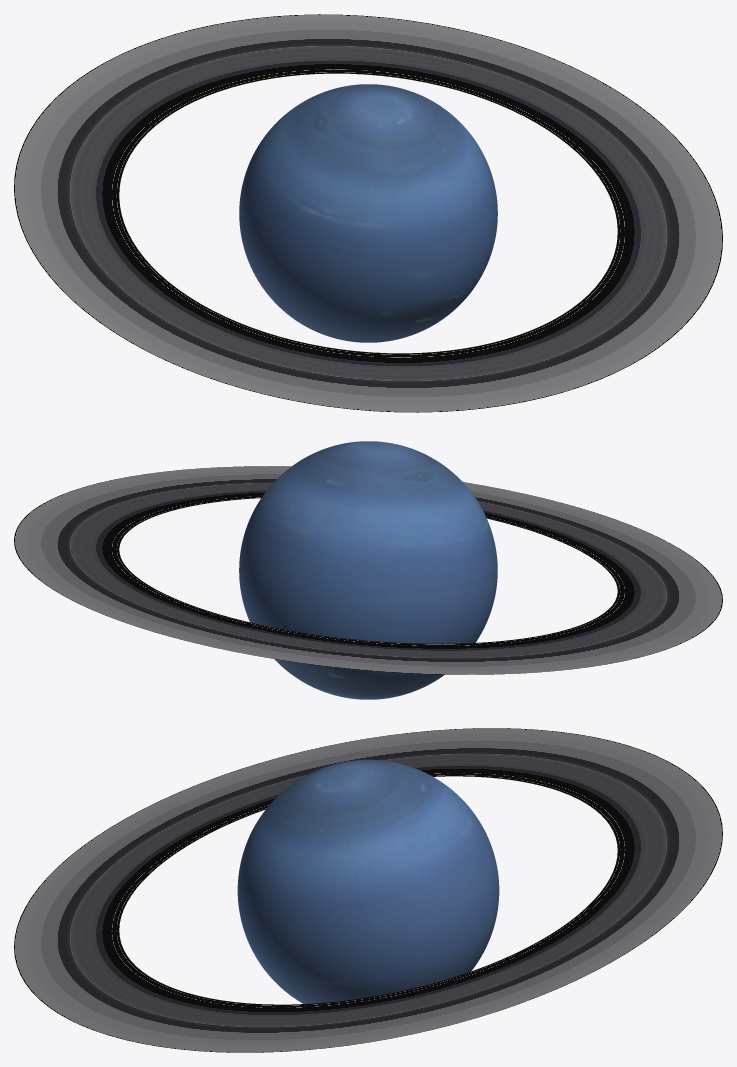
The model's file is neptuno_final.glb.
The picture shows the model from 3 angles, top to bottom: view 1: azimuth 30°, elevation 25°; view 2: azimuth 150°, elevation 25°; view 3: azimuth 270°, elevation 25°; orthographic projection.
Parts seen in each view (by area): view 1: Plano, Esfera; view 2: Plano, Esfera; view 3: Plano, Esfera.
Boxes of the visible parts, bbox=[...] form: Plano: bbox=[14, 14, 722, 412]; Esfera: bbox=[239, 84, 497, 342]; Plano: bbox=[14, 466, 722, 674]; Esfera: bbox=[239, 441, 497, 699]; Plano: bbox=[14, 728, 722, 1052]; Esfera: bbox=[237, 759, 499, 1003].
Bounding box in the file's own units: 1057 × 384 × 1041.
2 materials, 2 textured.
